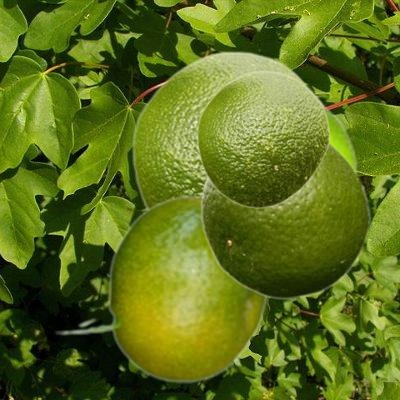calamansi: (54, 194, 268, 382), (131, 50, 324, 208), (200, 142, 370, 299), (196, 70, 329, 208), (315, 94, 357, 171)
